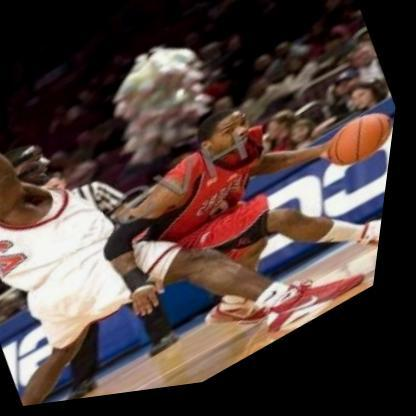basketball: (318, 107, 401, 194)
